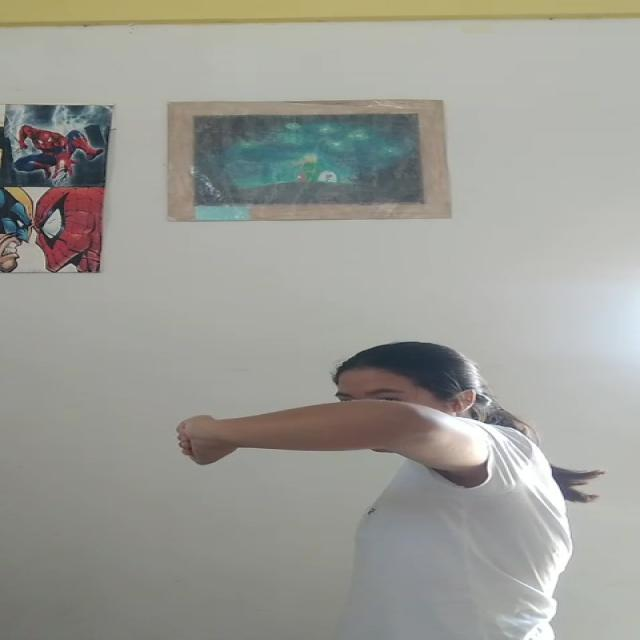7_mano_rostro: (300, 402, 492, 483)
